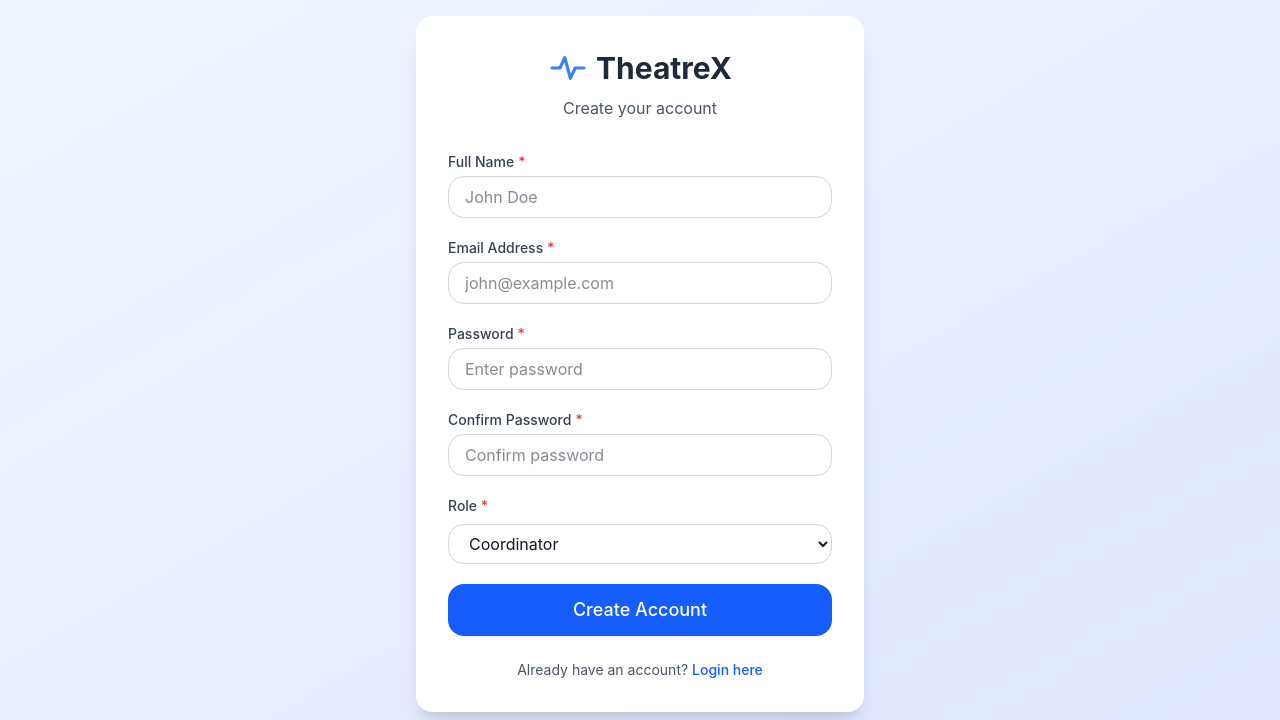
Scenario: M1 Day 26 – Register Component › shows password strength indicator for weak password
The width and height of the screenshot is (1280, 720).
Type "123" into the password field with placeholder "Enter password" at (640, 369), box [448,348,832,390]
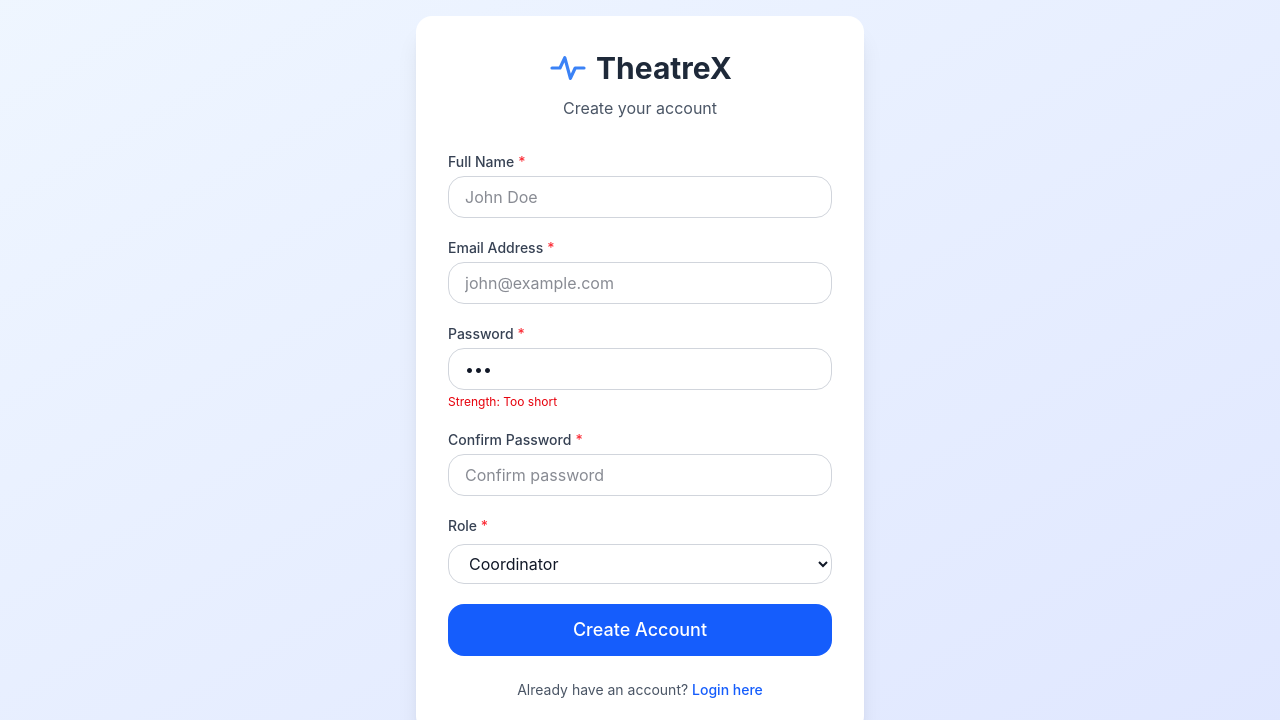
Check: the text "Strength: Too short" is shown, box [448,394,557,409]
